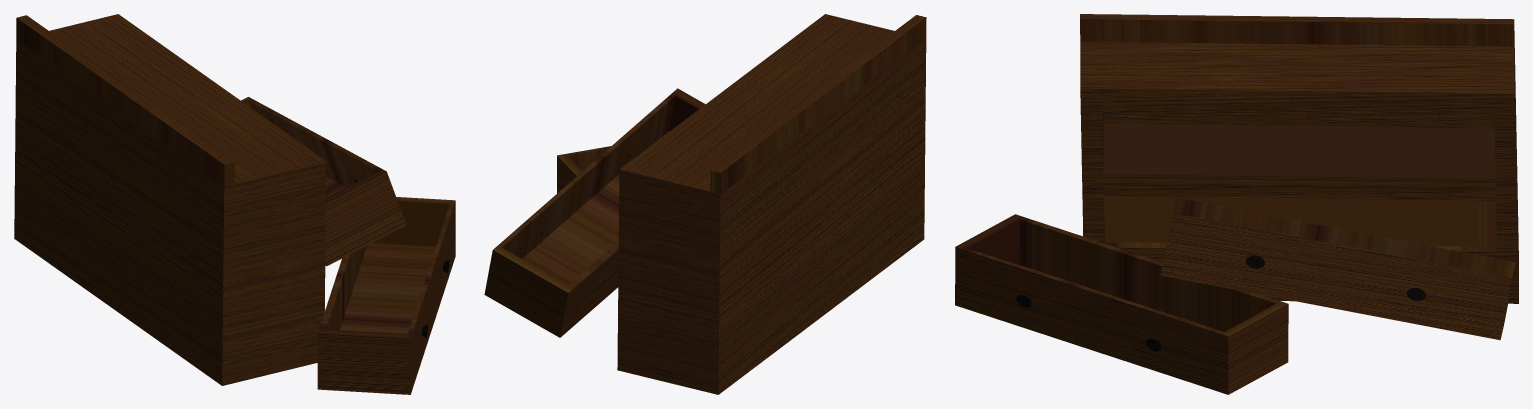
File: dresser2.glb
The picture shows the model from 3 angles, left to right: view 1: azimuth 30°, elevation 25°; view 2: azimuth 150°, elevation 25°; view 3: azimuth 270°, elevation 25°; orthographic projection. The views are drawn at different scales.
Visible parts, largest first — view 1: Cube.002; view 2: Cube.002; view 3: Cube.002.
Part boxes in pixels (x1,y1,x2,y2): Cube.002: (14, 14, 455, 394); Cube.002: (484, 14, 926, 394); Cube.002: (955, 14, 1518, 394).
Bounding box in the file's own units: 3.15 × 2.27 × 4.87.
Materials: 2 (1 with a texture image).
